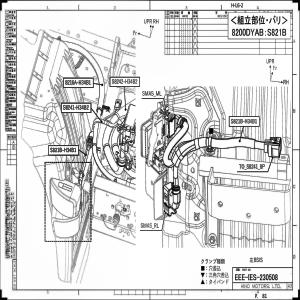PartNumber: (50, 146, 77, 154), (65, 79, 91, 86), (63, 104, 89, 111), (111, 78, 138, 84), (231, 118, 257, 124)
